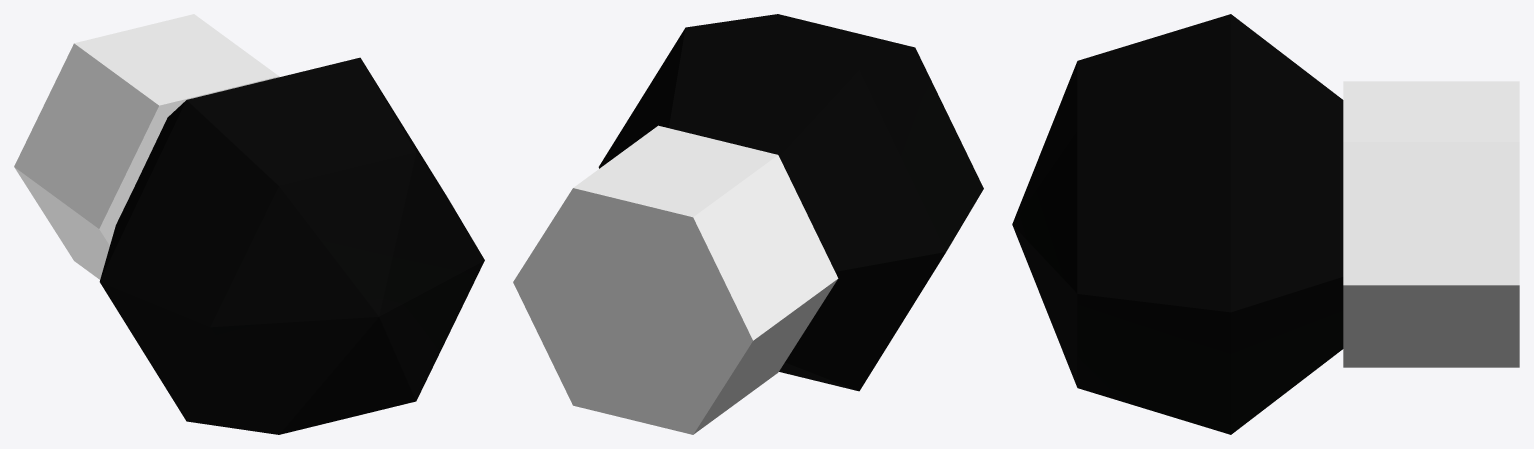
Rendered from SM_Prop_Casino_Neon_08.fbx.
3 views of the same model, side by side, from view 1: azimuth 30°, elevation 25°; view 2: azimuth 150°, elevation 25°; view 3: azimuth 270°, elevation 25° (orthographic). The views are drawn at different scales.
Visible parts, largest first — view 1: SM_Prop_Casino_Neon_08; view 2: SM_Prop_Casino_Neon_08; view 3: SM_Prop_Casino_Neon_08.
Part boxes in pixels (box(x1,y1,x2,y2)): SM_Prop_Casino_Neon_08: box(14, 14, 484, 434); SM_Prop_Casino_Neon_08: box(513, 14, 983, 434); SM_Prop_Casino_Neon_08: box(1012, 14, 1519, 434).
Bounding box in the file's own units: 20.19 × 17.84 × 24.64.
